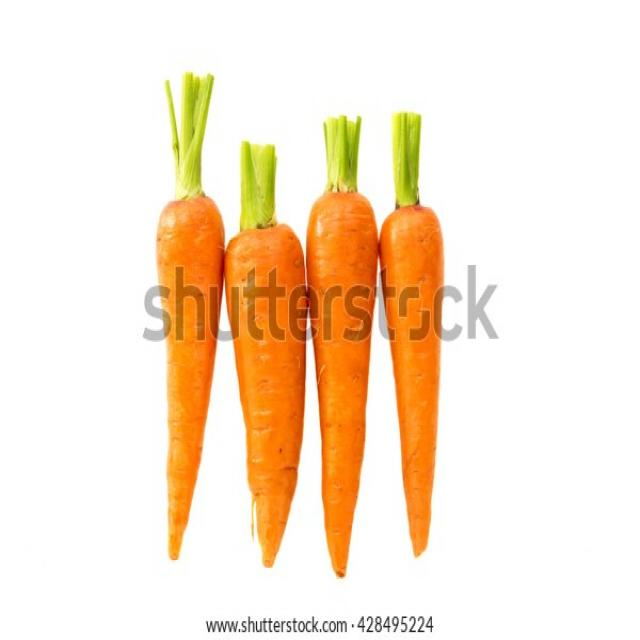Carrot: (142, 75, 218, 566), (226, 132, 304, 571), (379, 108, 444, 560), (304, 114, 367, 578)
